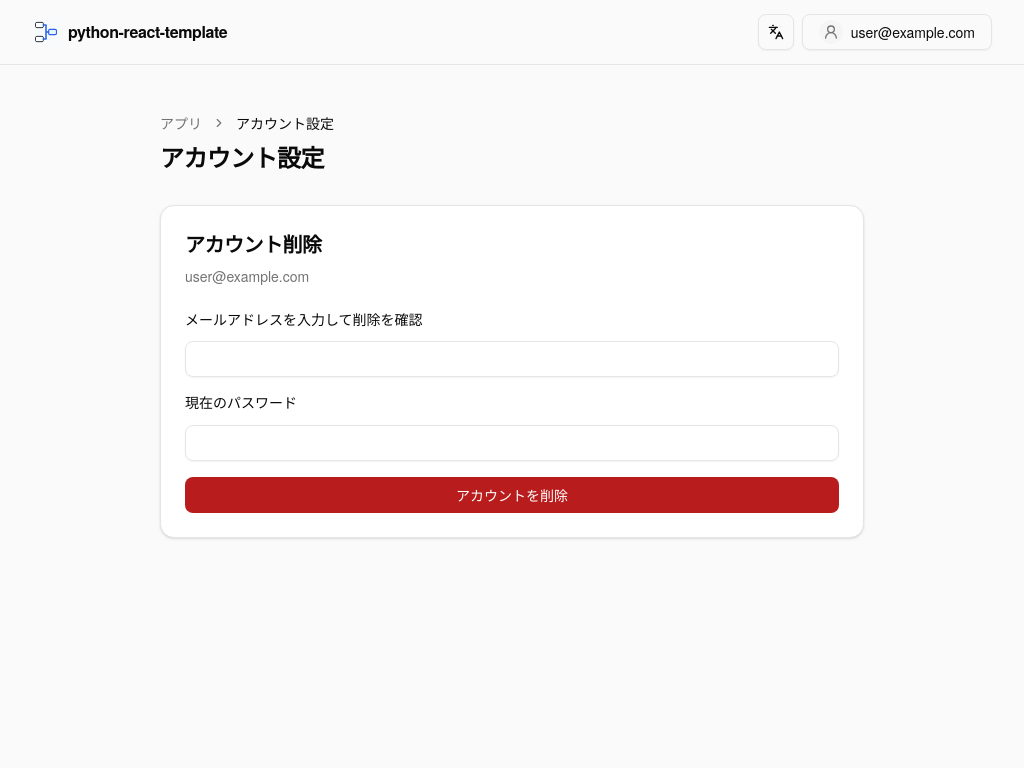
Test: /app/settings は account deletion API error 400 account_deletion_reauth_required を表示する
Check: the heading "アカウント削除" is shown, box [185,229,322,258]
Click the button "アカウントを削除". click: (512,494)
box: [185,476,839,512]
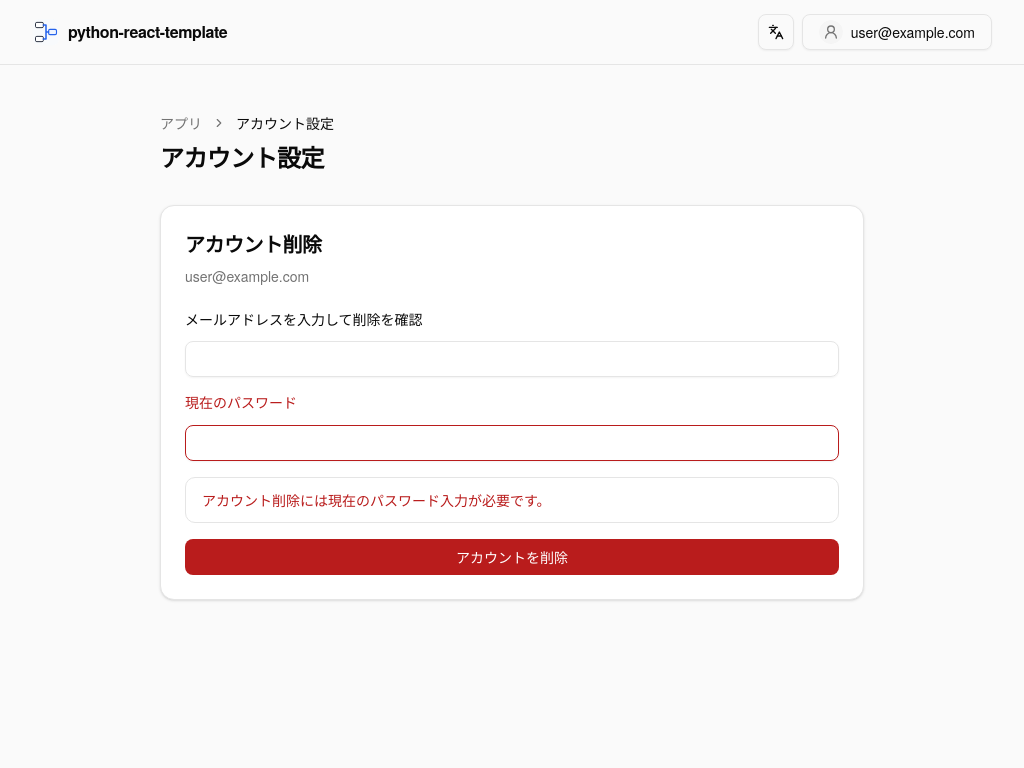
Check: the message reads "アカウント削除には現在のパスワード入力が必要です。", box [202,490,551,510]
